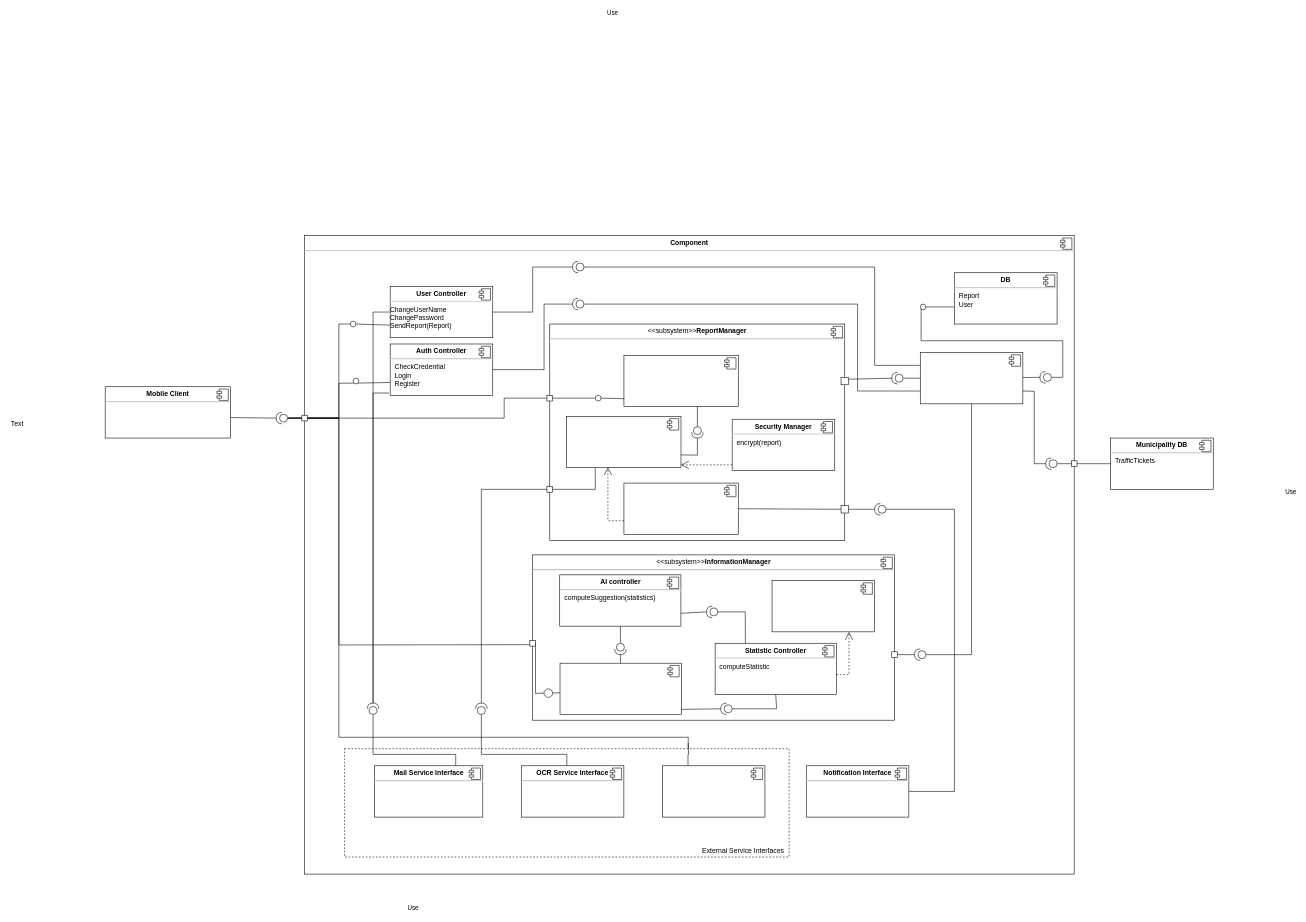
Some shapes in this 1306 by 922 pixel diagram are drawn without their labels. The centre of each missing label's shape, as x and y in pixels:
Map Service Interface: [713,791]
Notify Controller AuthorityList notify(Authority): [680,508]
Report Controller checkConsistency(Report): [623,442]
Report Interface: [680,381]
Security Manager decrypt(report): [823,606]
StatisticSuggestion Interface: [620,688]
Storage Interface Save Load Search: [971,378]
